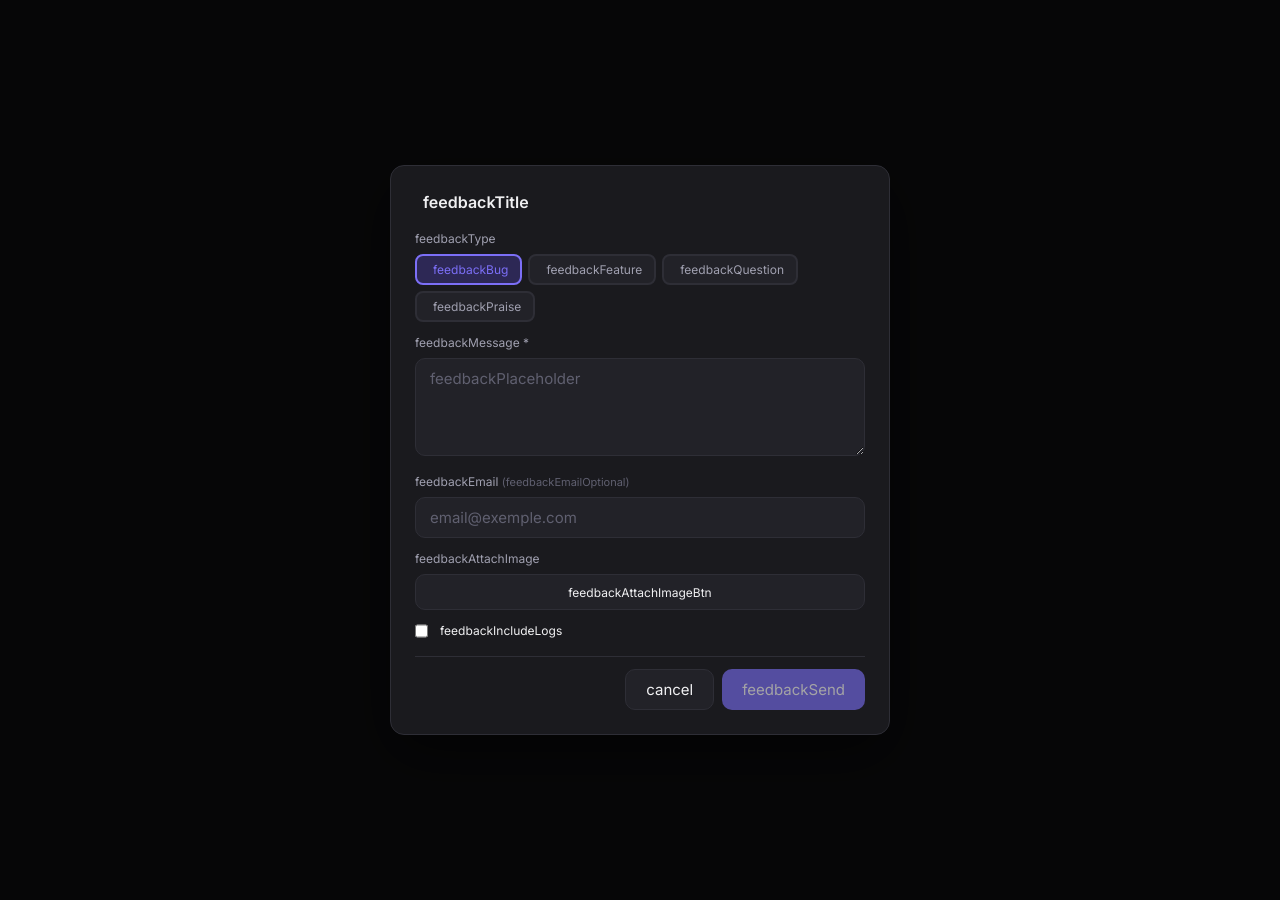
FeedbackModal > Pièce jointe image › erreur si readFileBase64 non disponible
Click the button "feedbackAttachImageBtn". click: {"x": 640, "y": 592}
box: [415,574,865,610]
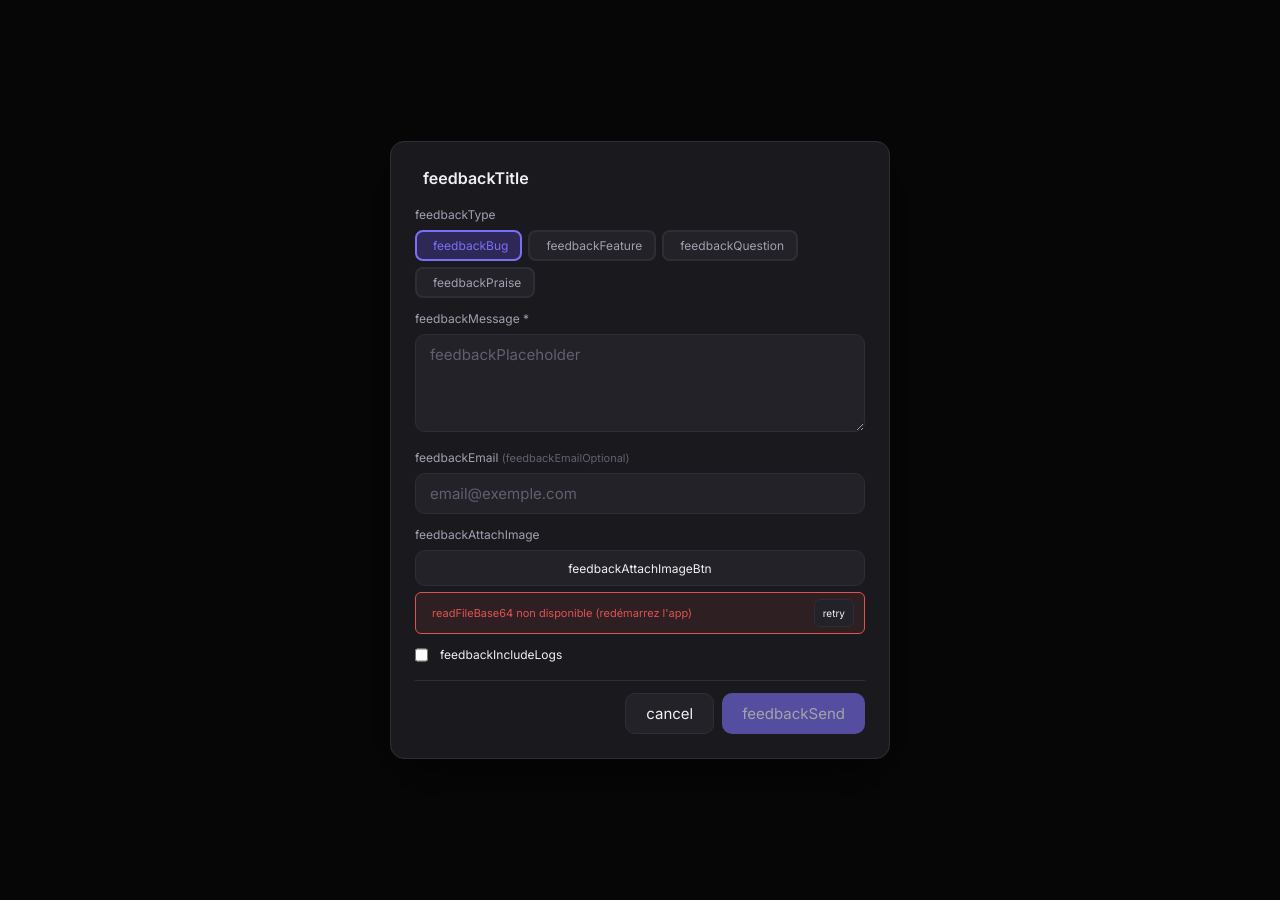
Expected: the text "readFileBase64 non disponible (redémarrez l'app)" is shown, [432,606,692,620]
